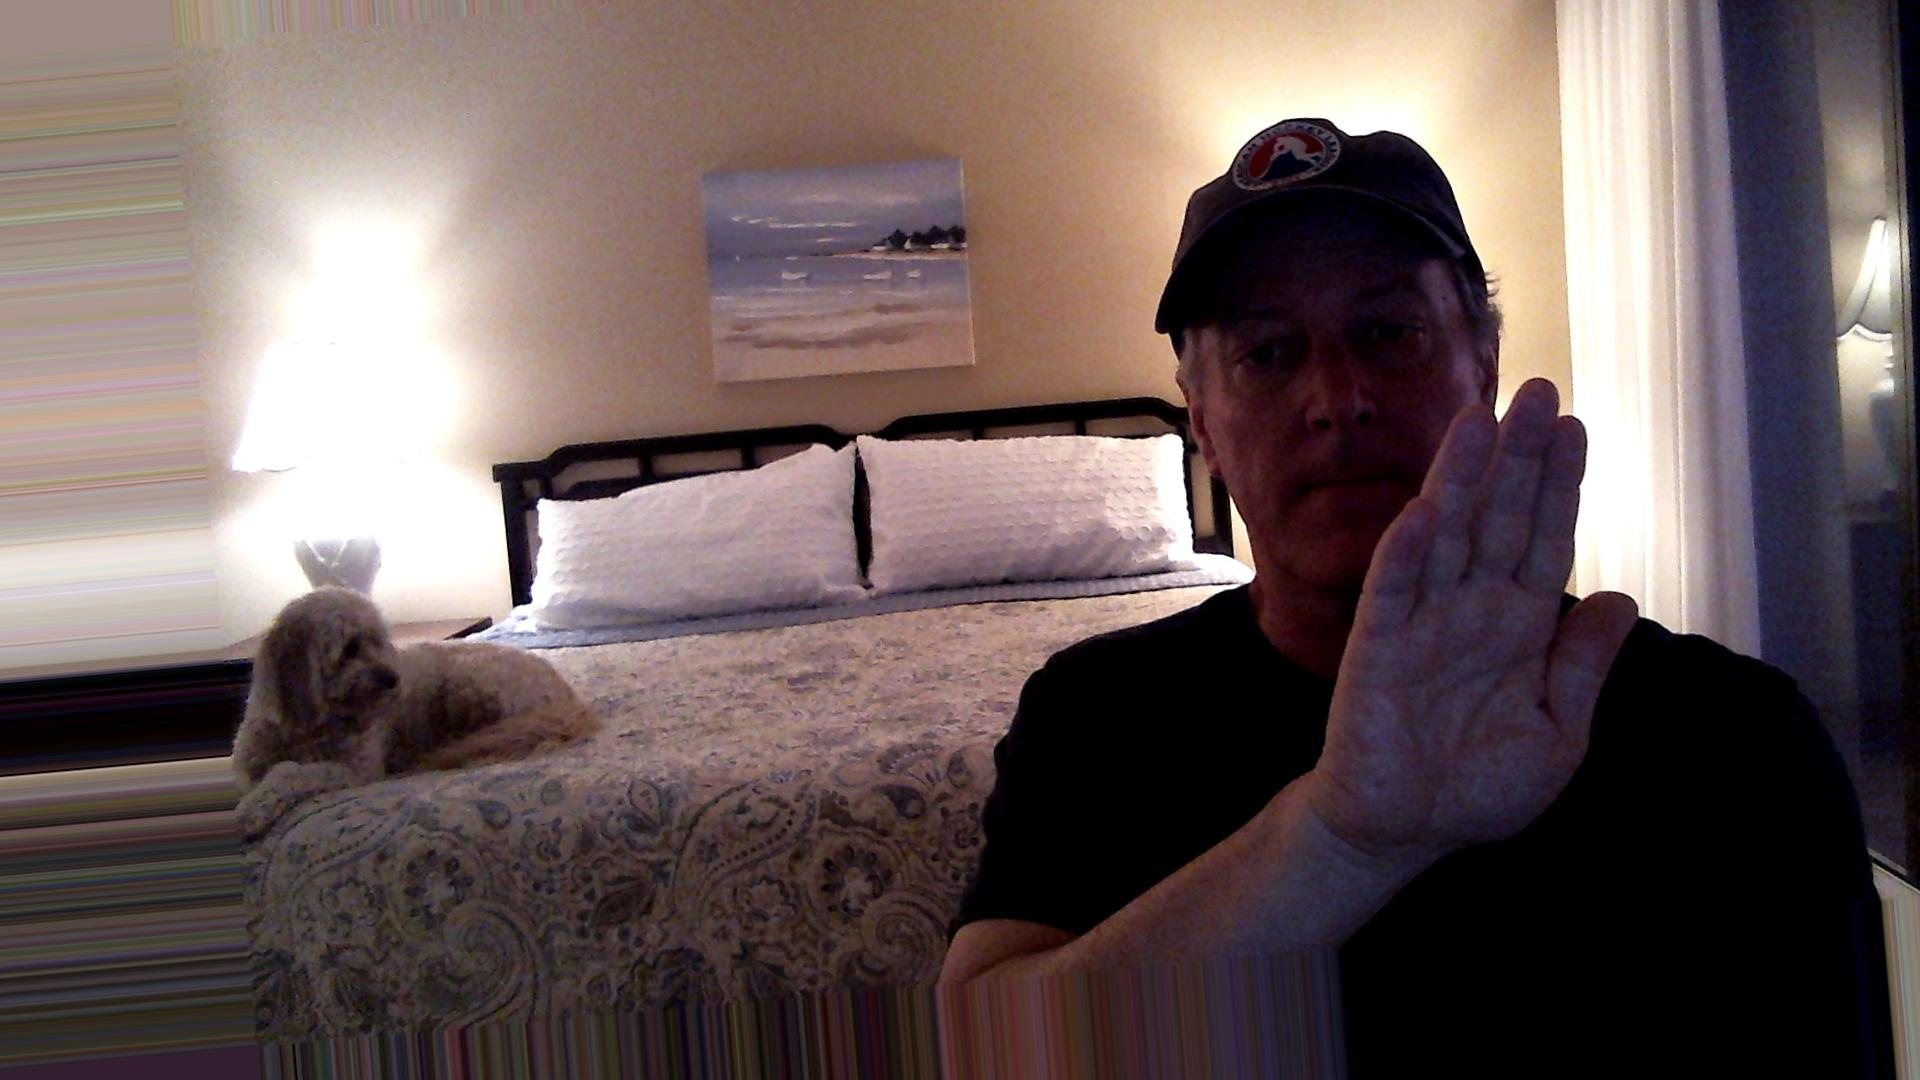Hello: (1305, 367, 1652, 862)
